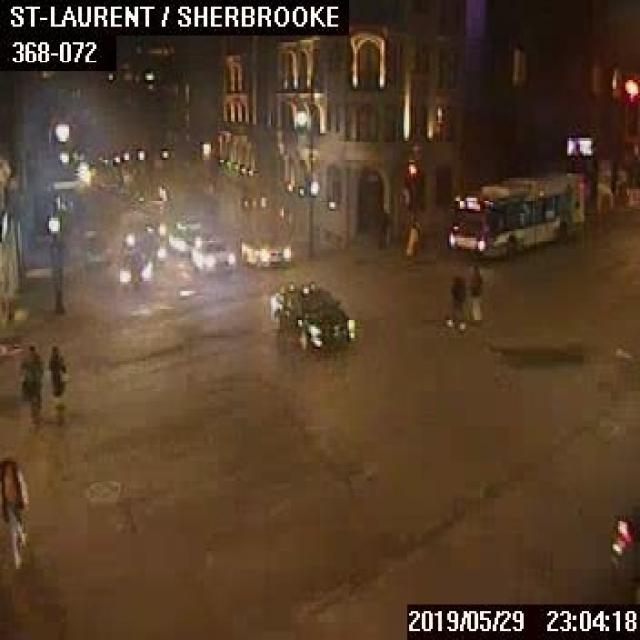bus: (445, 171, 582, 256)
pedestrian: (0, 455, 25, 568), (18, 344, 42, 420), (44, 345, 66, 424), (446, 274, 464, 329), (467, 263, 481, 320), (404, 208, 420, 253), (376, 210, 388, 246)
vehicle: (267, 278, 355, 353), (607, 496, 638, 602), (239, 235, 290, 269), (190, 233, 232, 271), (114, 247, 151, 284), (168, 225, 200, 254)
